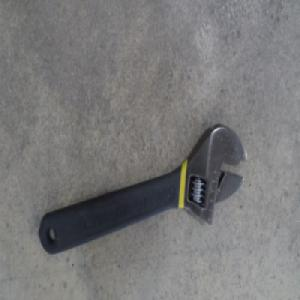AdjustableWrench: (37, 123, 246, 257)
